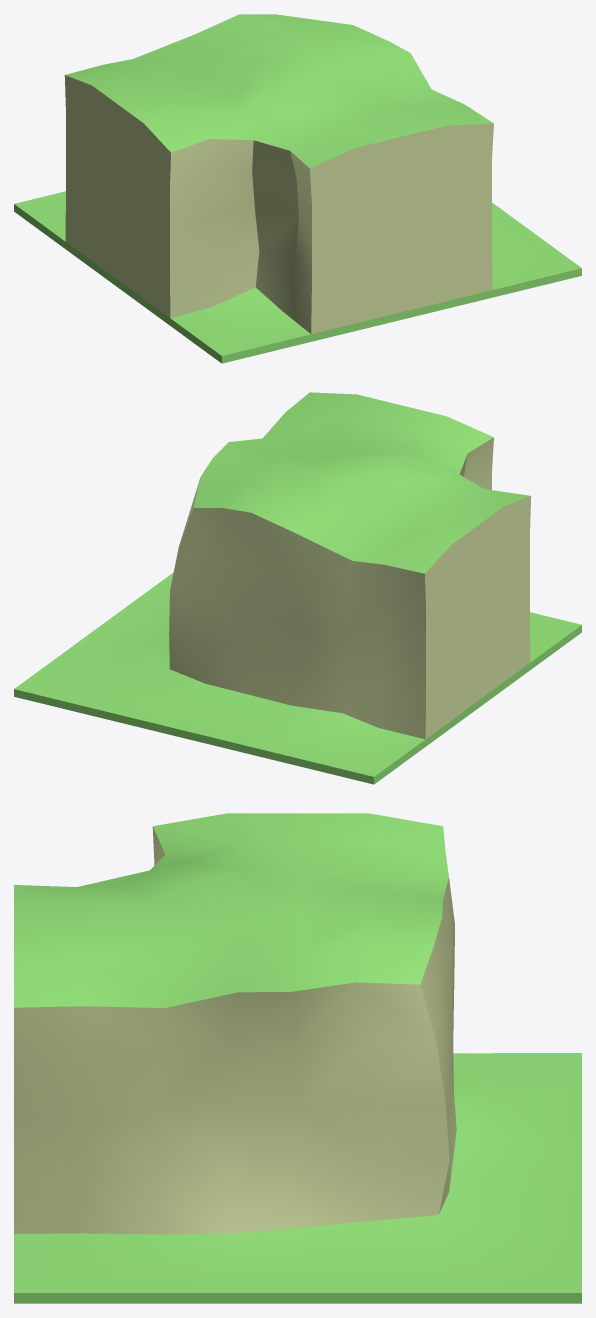
The model's file is wall_slim_join2_1.glb.
3 renders of one model, top to bottom at view 1: azimuth 30°, elevation 25°; view 2: azimuth 150°, elevation 25°; view 3: azimuth 270°, elevation 25°, orthographic. The views are drawn at different scales.
Visible parts, largest first — view 1: wall_slim_join2_1; view 2: wall_slim_join2_1; view 3: wall_slim_join2_1.
Boxes of the visible parts, x1=… form: wall_slim_join2_1: x1=14, y1=14, x2=581, y2=363; wall_slim_join2_1: x1=14, y1=392, x2=581, y2=784; wall_slim_join2_1: x1=14, y1=813, x2=581, y2=1303.
Size of the model in its own units: 2 by 1.04 by 2.
